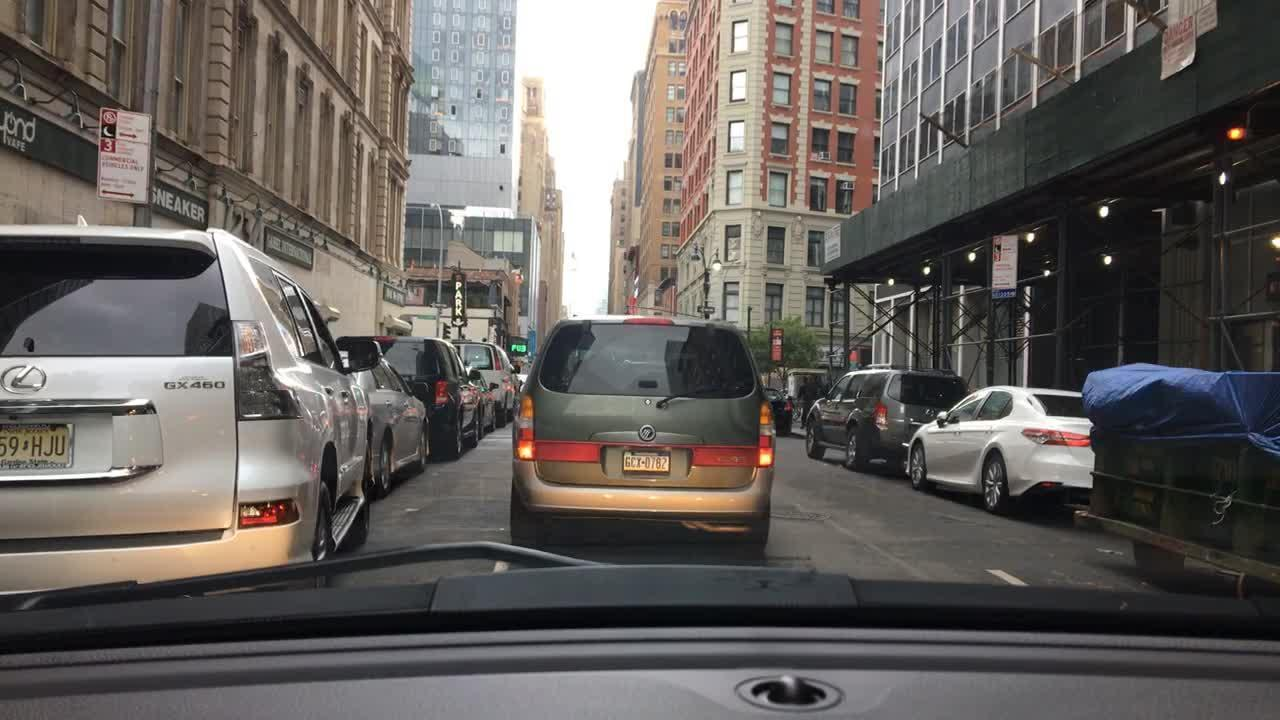Mercury: (633, 421, 663, 448)
lexus: (0, 360, 47, 401)
